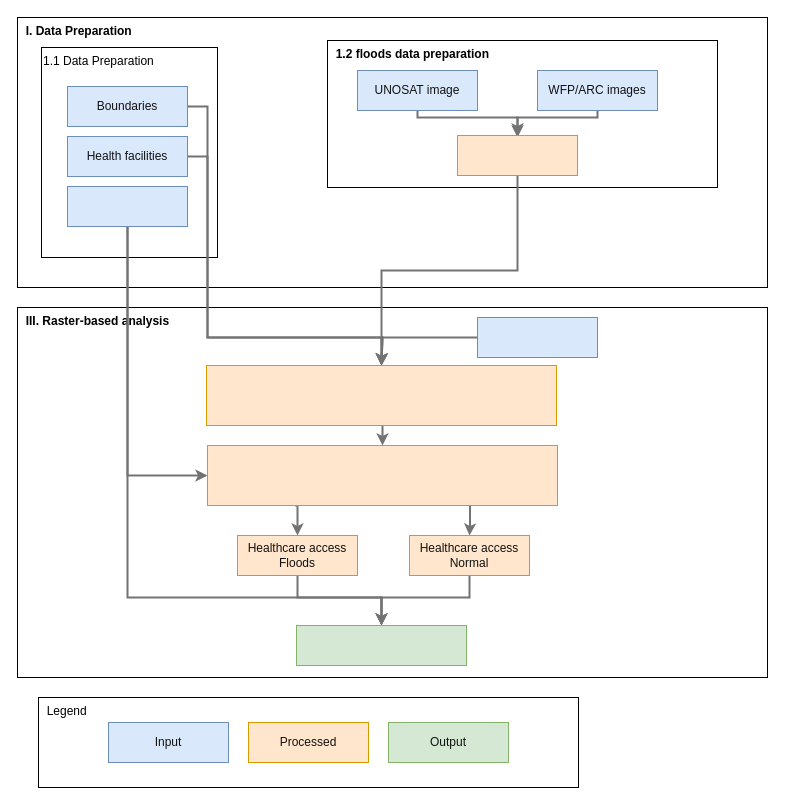
The diagram is 785 pixels wide and 805 high, and some of its shapes have lost their labels. Each missing label, with the centre of its shape:
"Floods extent" belongs at point 517,155.
"Friction surface" belongs at point 537,337.
"Loss of access" belongs at point 381,645.
"Population" belongs at point 127,206.
"Population count" belongs at point 382,475.
"Raster accessibility" belongs at point 381,395.
